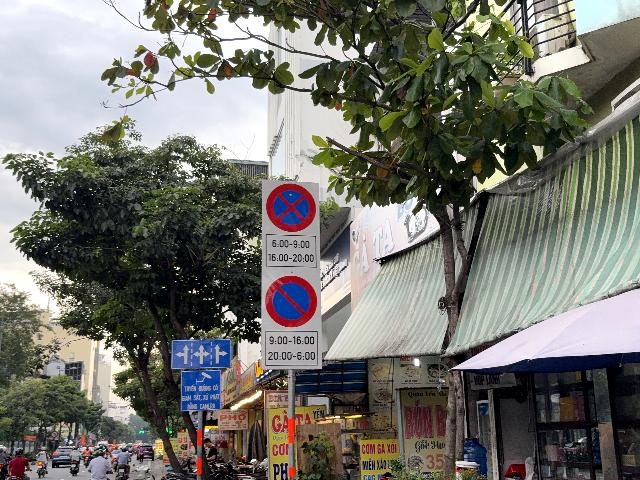cam-do-xe: (266, 274, 317, 327)
cam-dung-va-do-xe: (267, 183, 317, 232)
